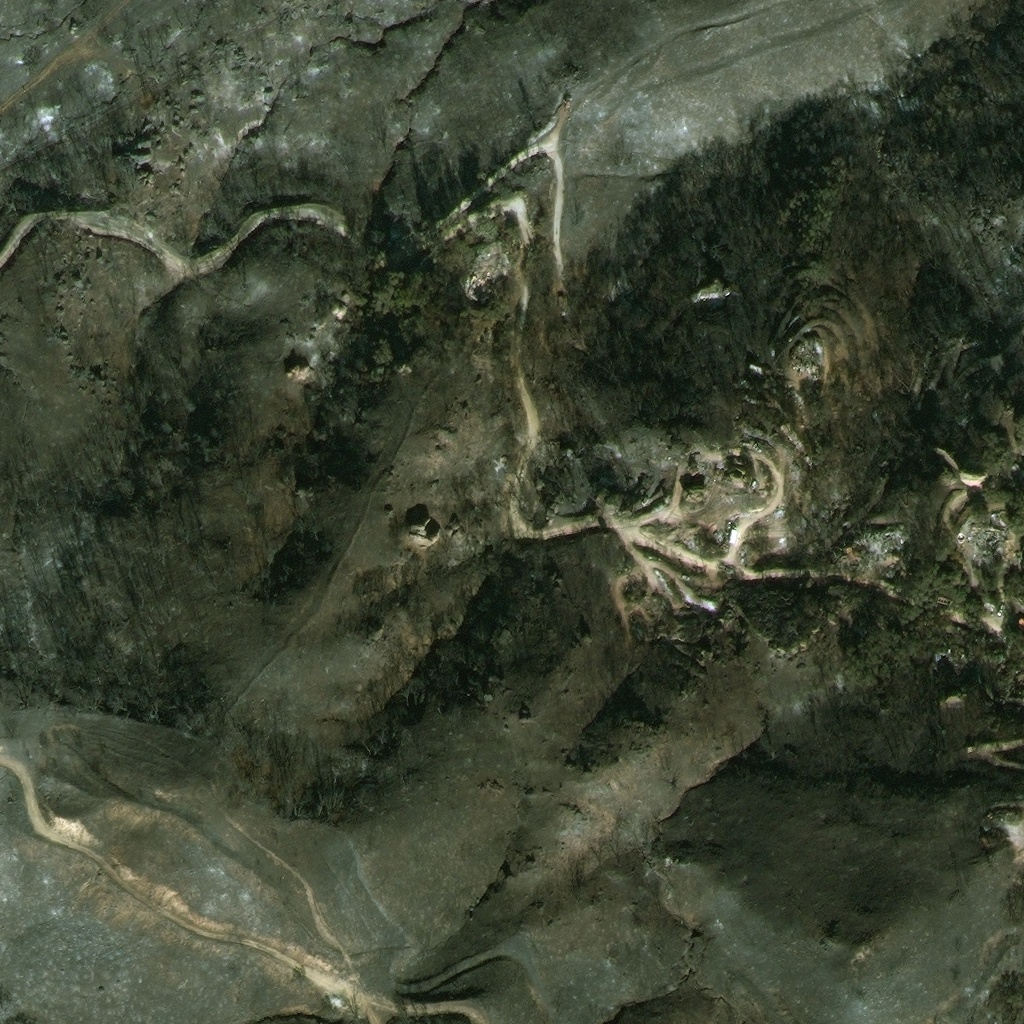3 destroyed: (458, 268, 495, 300), (696, 286, 723, 305), (717, 512, 738, 533), (985, 524, 1006, 545), (324, 988, 345, 1007), (627, 615, 645, 637), (945, 647, 962, 669), (886, 545, 903, 564), (684, 474, 707, 487), (750, 425, 769, 440), (709, 527, 727, 542), (975, 531, 991, 547), (659, 508, 681, 519), (684, 535, 702, 548), (935, 593, 952, 606), (893, 531, 907, 545), (990, 511, 1003, 524), (485, 239, 501, 249), (994, 600, 1004, 615), (943, 693, 959, 702), (1013, 682, 1023, 696), (1012, 461, 1023, 473), (790, 457, 801, 468), (955, 529, 965, 540), (977, 742, 989, 751), (886, 538, 895, 547), (1016, 615, 1023, 626), (569, 97, 577, 106), (691, 445, 704, 449), (774, 508, 782, 514)
